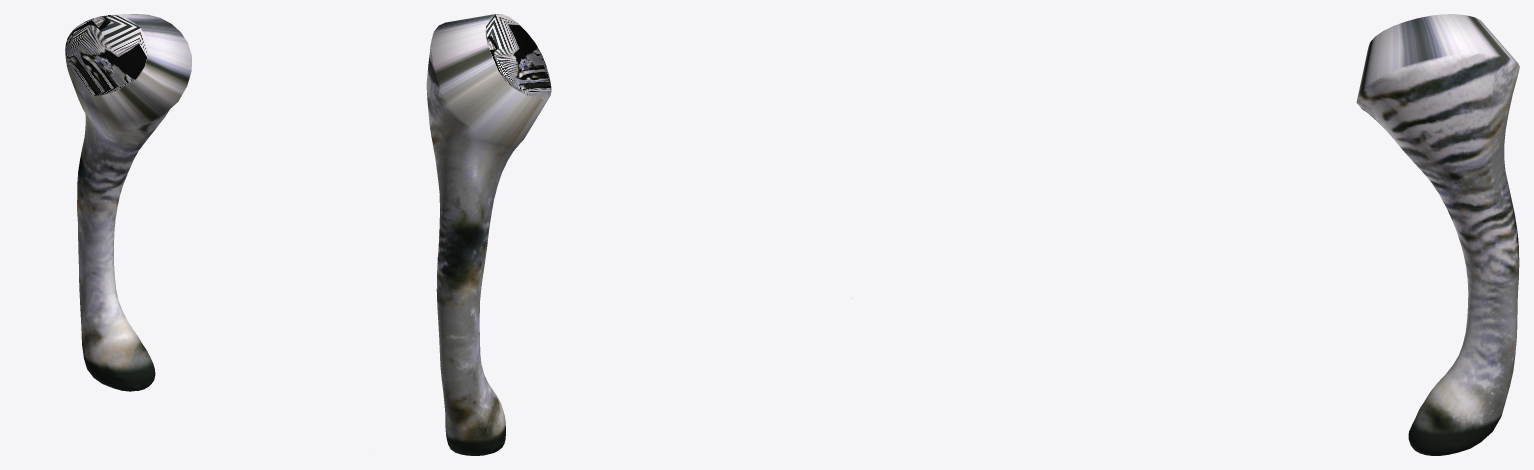
The model's file is B_RightLegZebra.obj.
The picture shows the model from 3 angles, left to right: view 1: azimuth 30°, elevation 25°; view 2: azimuth 150°, elevation 25°; view 3: azimuth 270°, elevation 25°; orthographic projection. The views are drawn at different scales.
Visible parts, largest first — view 1: Zebra_Quad.002; view 2: Zebra_Quad.002; view 3: Zebra_Quad.002.
Boxes of the visible parts, x1,y1,x2,y2 form: Zebra_Quad.002: (65, 14, 191, 391); Zebra_Quad.002: (426, 14, 551, 455); Zebra_Quad.002: (852, 14, 1519, 455).
Size of the model in its own units: 0.3567 by 0.8748 by 1.3.
1 material, 1 textured.
